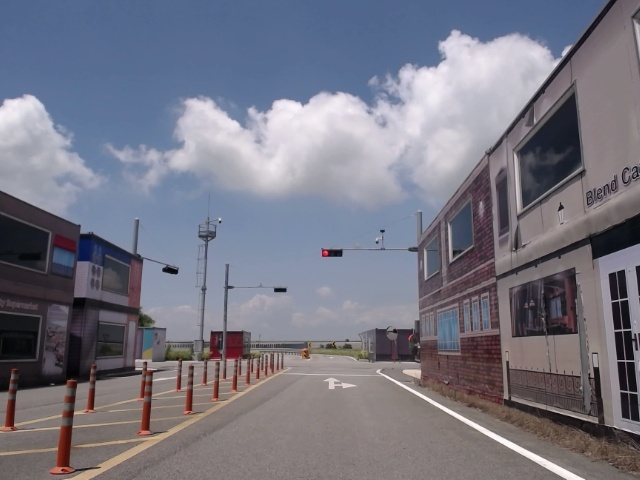red_3: (322, 249, 345, 257)
